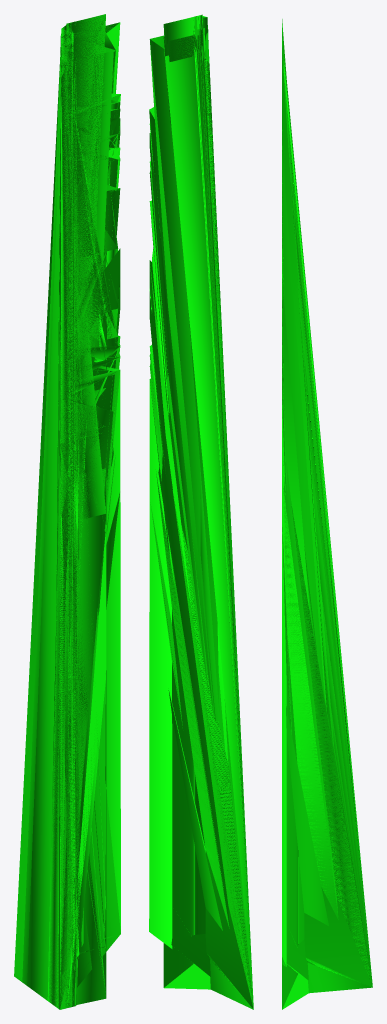
Rendered from Palas.fbx.
3 renders of one model, left to right at view 1: azimuth 30°, elevation 25°; view 2: azimuth 210°, elevation 25°; view 3: azimuth 270°, elevation 25°, orthographic. The views are drawn at different scales.
Visible parts, largest first — view 1: Palas; view 2: Palas; view 3: Palas.
Part boxes in pixels (x1=…): Palas: x1=14, y1=14, x2=120, y2=1009; Palas: x1=149, y1=14, x2=253, y2=1009; Palas: x1=282, y1=19, x2=372, y2=1009.
Bounding box in the file's own units: 9.88e+08 × 1.52e+10 × 1.29e+09.
